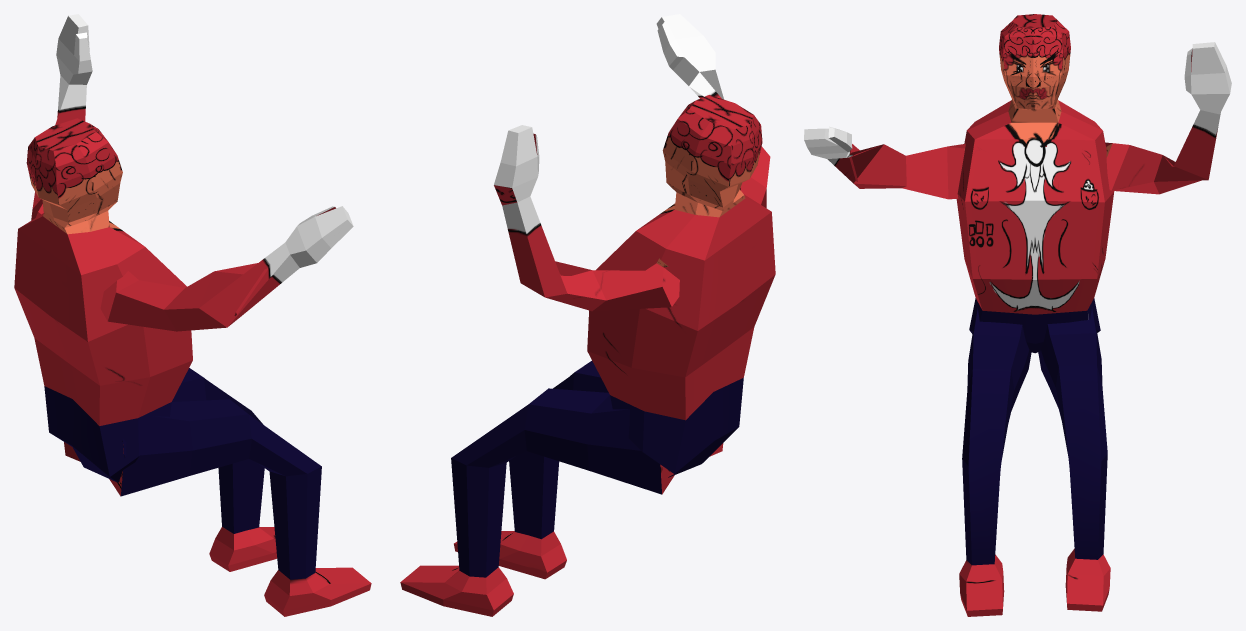
The model's file is assis-2.fbx.
3 views of the same model, side by side, from view 1: azimuth 30°, elevation 25°; view 2: azimuth 150°, elevation 25°; view 3: azimuth 270°, elevation 25° (orthographic). The views are drawn at different scales.
Parts seen in each view (by area): view 1: Cube.001; view 2: Cube.001; view 3: Cube.001.
Part boxes in pixels (<box>): Cube.001: <box>14,14,371,616</box>; Cube.001: <box>400,14,775,616</box>; Cube.001: <box>804,14,1231,616</box>.
Size of the model in its own units: 205 by 343 by 266.
